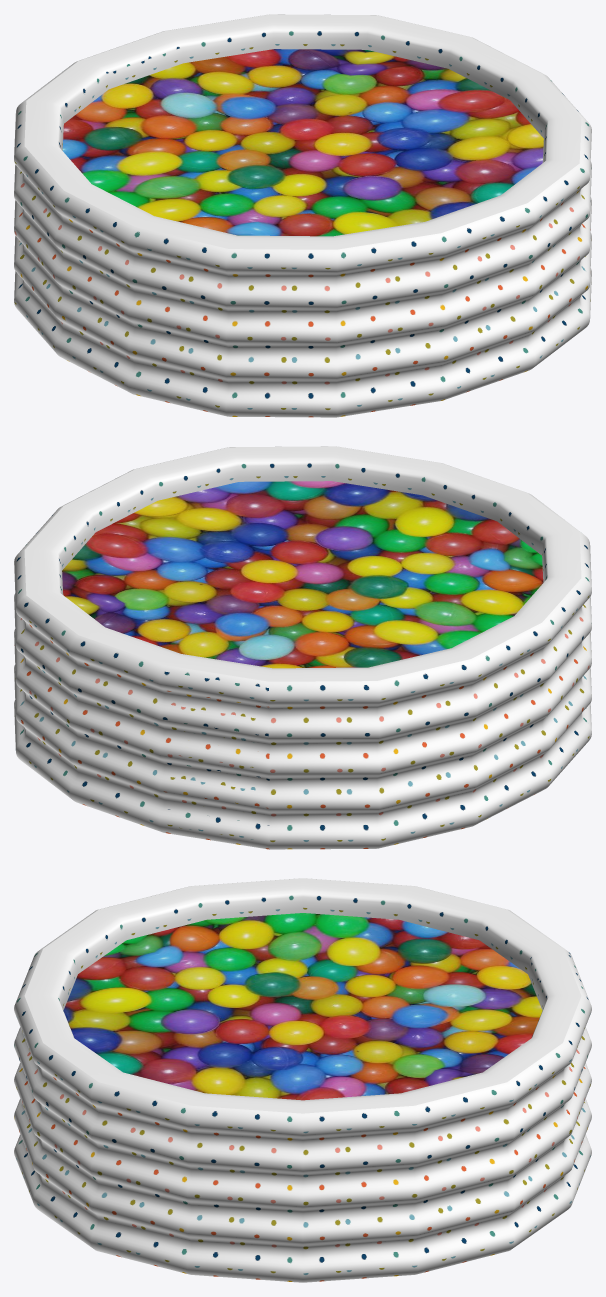
File: BallPool.fbx
The picture shows the model from 3 angles, top to bottom: view 1: azimuth 30°, elevation 25°; view 2: azimuth 150°, elevation 25°; view 3: azimuth 270°, elevation 25°; orthographic projection.
Parts seen in each view (by area): view 1: Box001, Plane001; view 2: Box001, Plane001; view 3: Box001, Plane001.
Part boxes in pixels (x1=…): Box001: x1=14, y1=14, x2=591, y2=417; Plane001: x1=62, y1=49, x2=543, y2=236; Box001: x1=14, y1=446, x2=591, y2=849; Plane001: x1=62, y1=481, x2=543, y2=668; Box001: x1=14, y1=878, x2=591, y2=1282; Plane001: x1=63, y1=913, x2=542, y2=1100.
Size of the model in its own units: 2863 by 930 by 2863.
